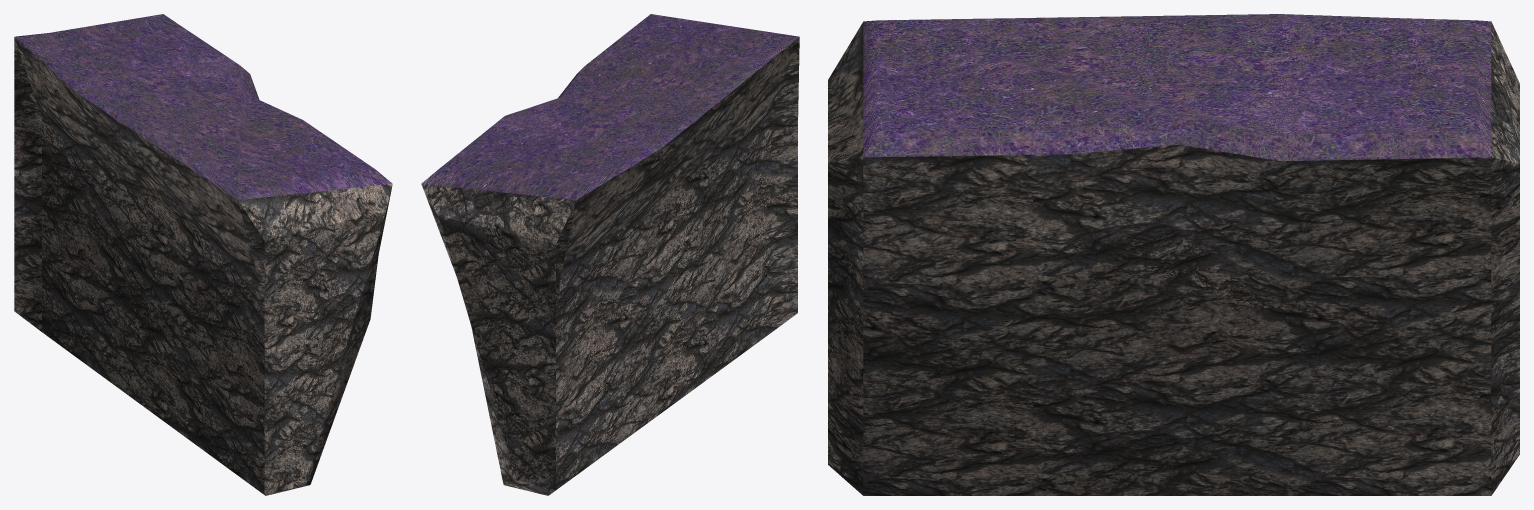
The model's file is LowPolyClifflong.fbx.
3 renders of one model, left to right at view 1: azimuth 30°, elevation 25°; view 2: azimuth 150°, elevation 25°; view 3: azimuth 270°, elevation 25°, orthographic. The views are drawn at different scales.
Parts seen in each view (by area): view 1: pCube3; view 2: pCube3; view 3: pCube3.
Part boxes in pixels (left/top/right/bottom): pCube3: left=14, top=14, right=392, bottom=495; pCube3: left=421, top=14, right=799, bottom=495; pCube3: left=828, top=14, right=1519, bottom=495.
Size of the model in its own units: 7.65 by 13.02 by 19.05.
Materials: 2 (2 with a texture image).
